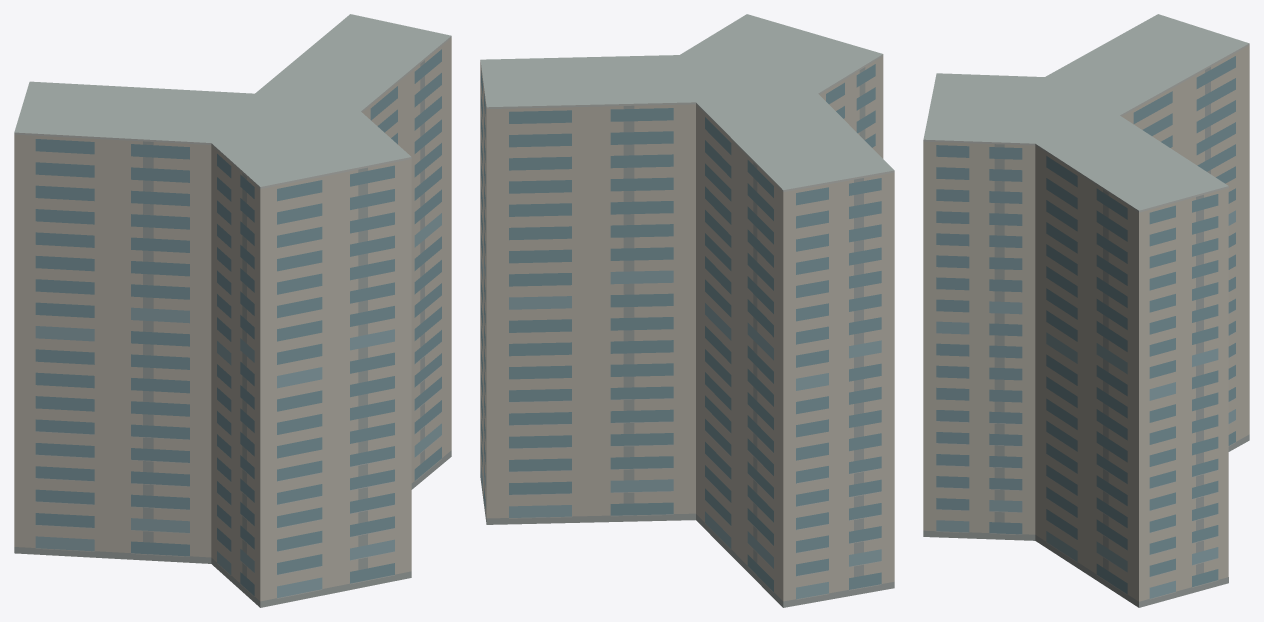
The model's file is residential-d324f272-d78a-4b2c-a7fa-66adfa349d12.glb.
3 views of the same model, side by side, from view 1: azimuth 30°, elevation 25°; view 2: azimuth 150°, elevation 25°; view 3: azimuth 270°, elevation 25° (orthographic). The views are drawn at different scales.
Parts seen in each view (by area): view 1: residential-d324f272-d78a-4b2c-a7fa-66adfa349d12.tmp; view 2: residential-d324f272-d78a-4b2c-a7fa-66adfa349d12.tmp; view 3: residential-d324f272-d78a-4b2c-a7fa-66adfa349d12.tmp.
Part boxes in pixels (box(x1,y1,x2,y2)): residential-d324f272-d78a-4b2c-a7fa-66adfa349d12.tmp: box(14, 14, 451, 607); residential-d324f272-d78a-4b2c-a7fa-66adfa349d12.tmp: box(480, 14, 894, 607); residential-d324f272-d78a-4b2c-a7fa-66adfa349d12.tmp: box(923, 14, 1249, 607).
Size of the model in its own units: 55.26 by 52 by 38.71.
